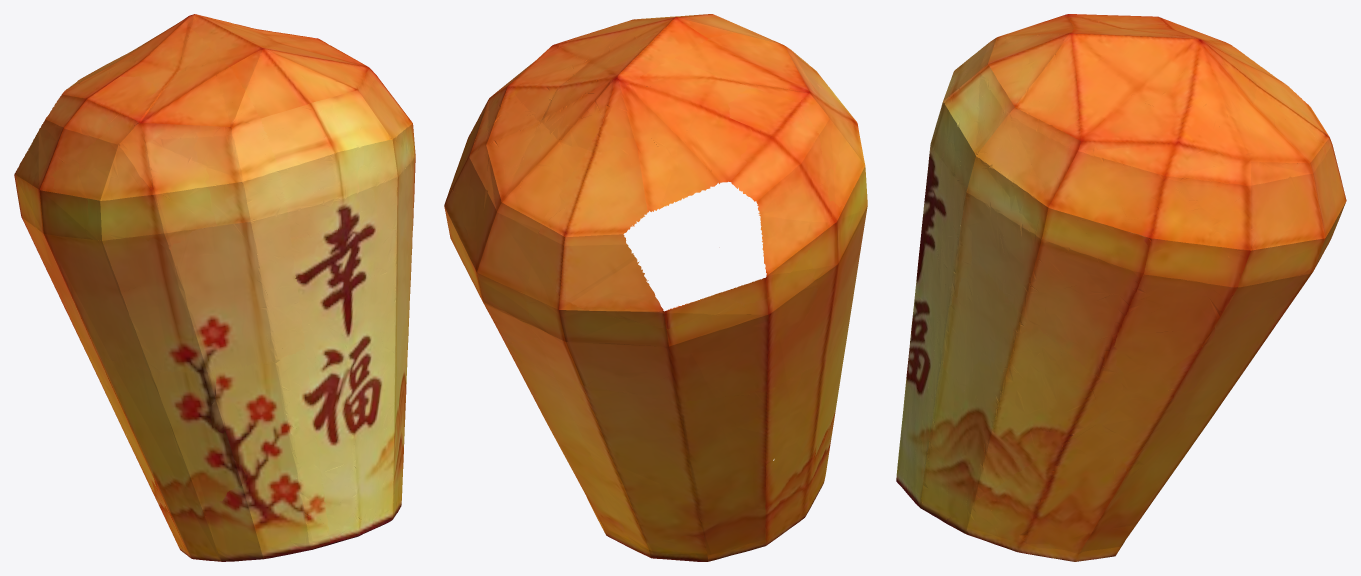
Rendered from sky-hanhphuc.glb.
3 renders of one model, left to right at view 1: azimuth 30°, elevation 25°; view 2: azimuth 150°, elevation 25°; view 3: azimuth 270°, elevation 25°, orthographic. The views are drawn at different scales.
Parts seen in each view (by area): view 1: sky_src.glb; view 2: sky_src.glb; view 3: sky_src.glb.
Boxes of the visible parts, x1,y1,x2,y2 form: sky_src.glb: [14, 14, 415, 561]; sky_src.glb: [444, 14, 867, 561]; sky_src.glb: [896, 14, 1346, 561].
Bounding box in the file's own units: 0.3353 × 0.4571 × 0.3679.
1 material, 1 textured.
